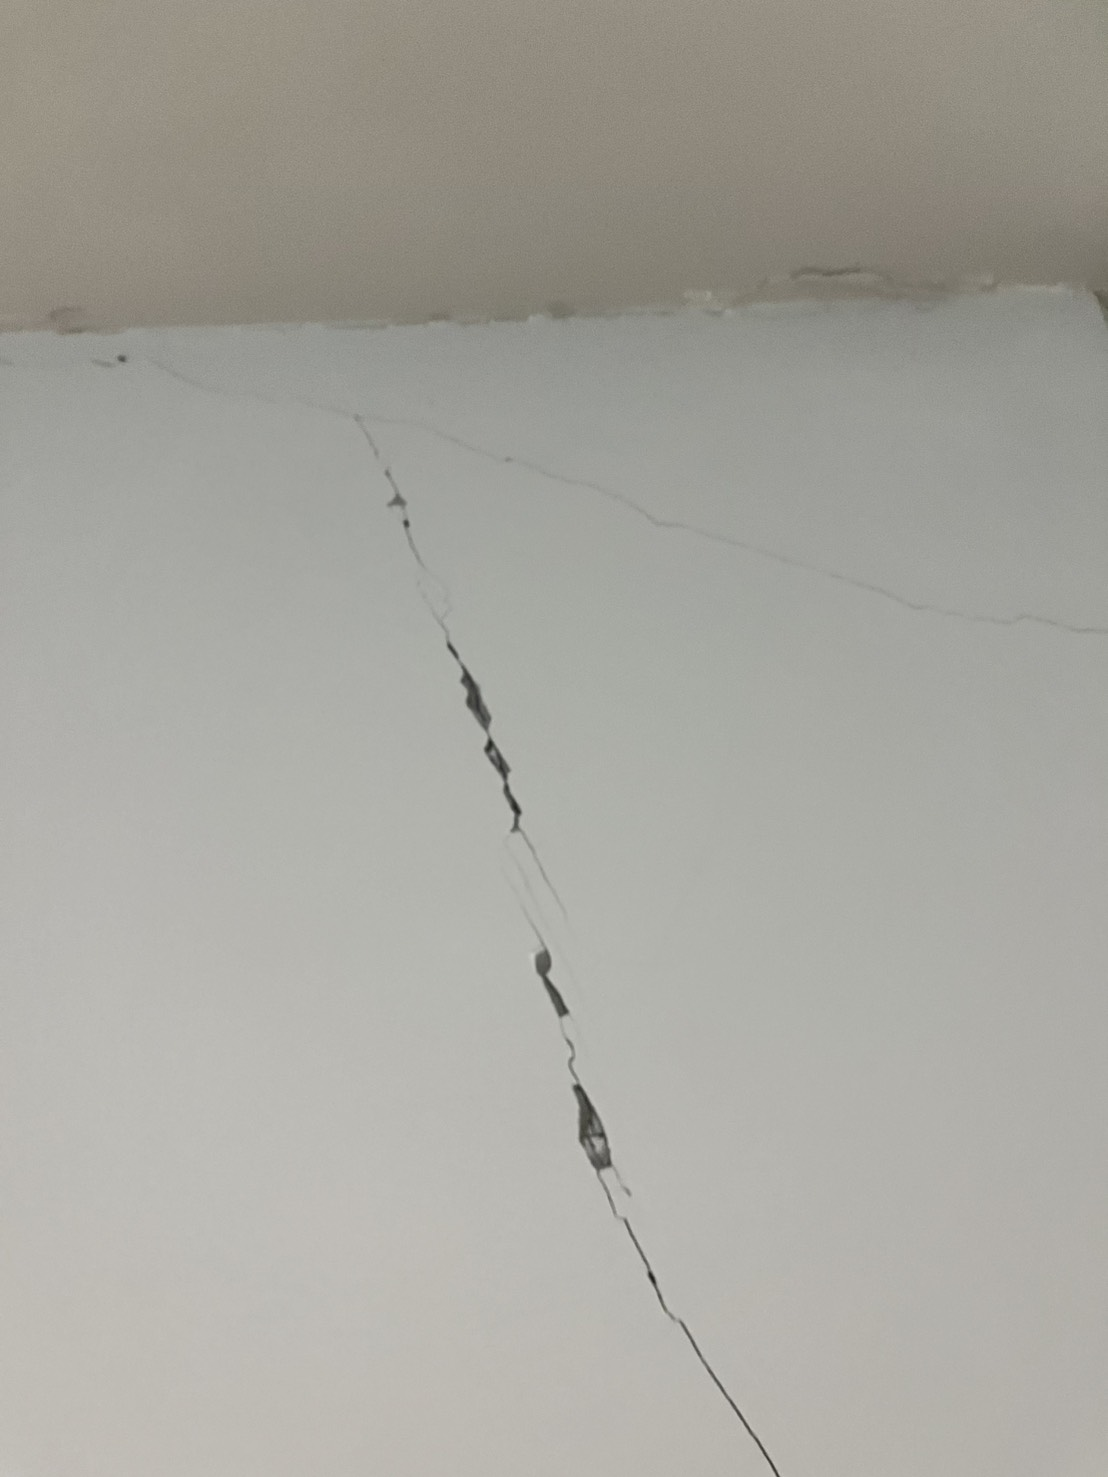Medium: (274, 352, 975, 1457)
